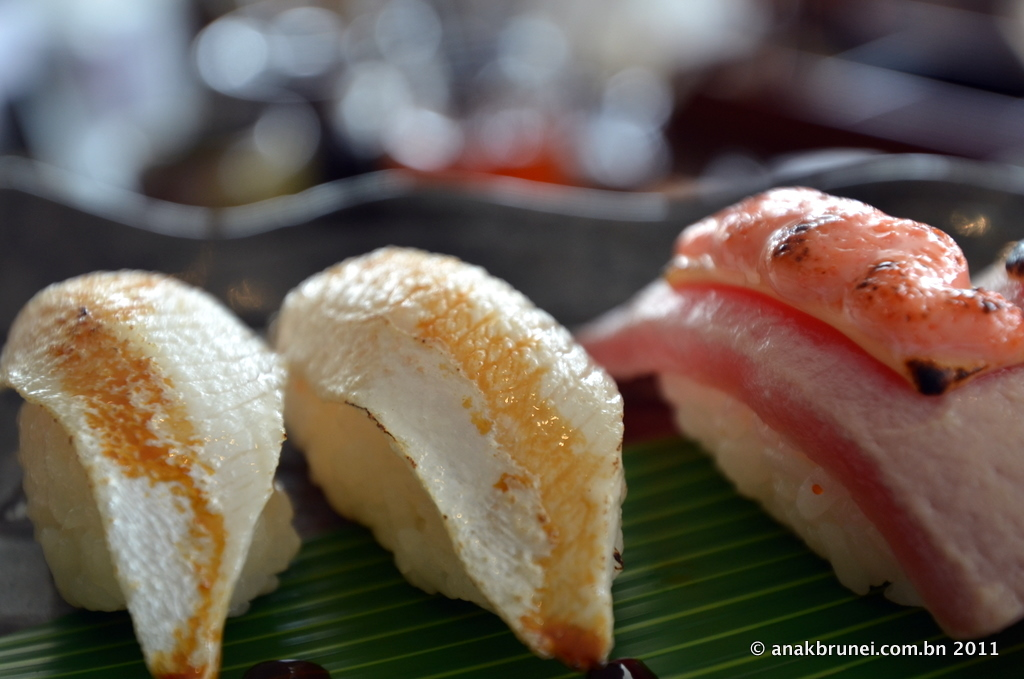sushi: (571, 183, 1023, 647), (279, 238, 634, 669), (0, 272, 288, 678)
